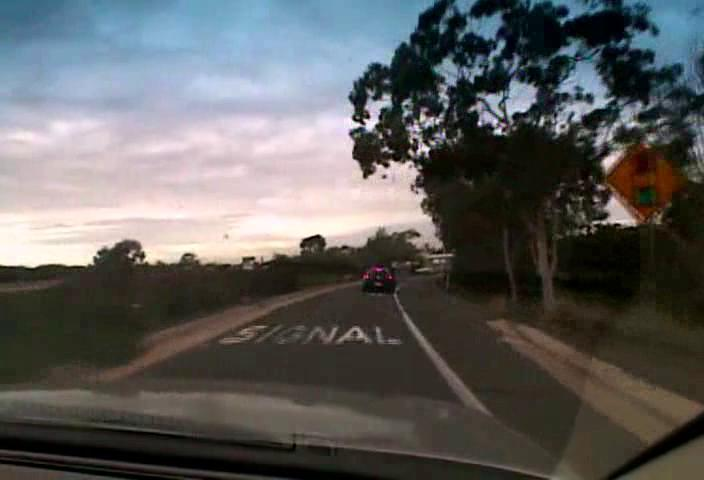signalAhead: (606, 139, 686, 220)
